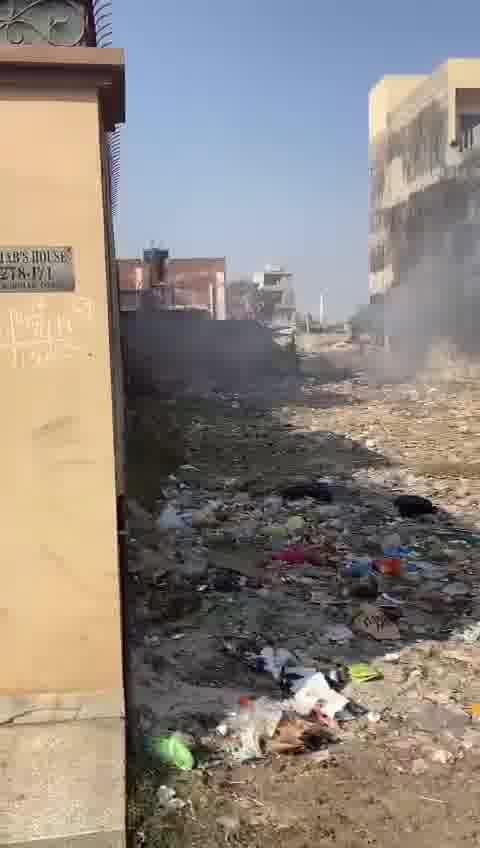garbage: (123, 386, 480, 810)
